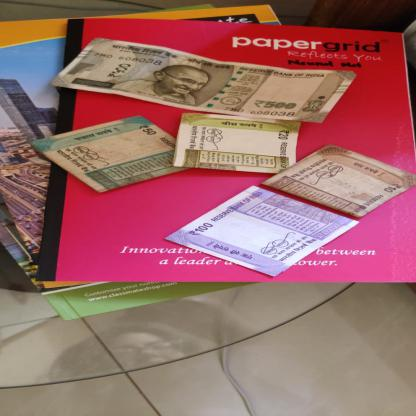New100Back: (162, 184, 362, 278)
New10Back: (260, 144, 415, 218)
New20Back: (173, 113, 303, 174)
New500Front: (50, 37, 359, 124)
New50Back: (28, 114, 193, 193)
